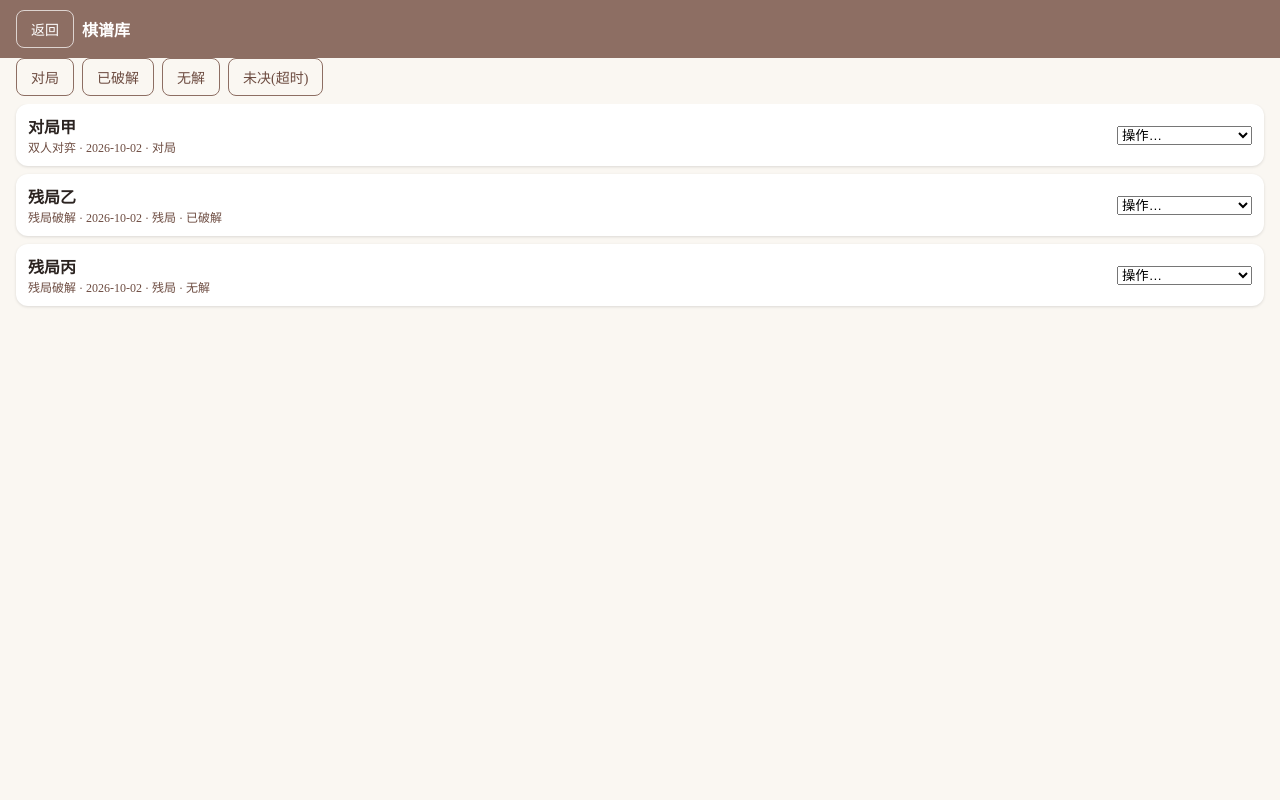
Test: 棋谱库列表（TC-LIB） › TC-LIB-006 删除确认后棋谱移除
Expected: the text "残局丙" is shown, [28,259,76,276]
Select "删除" in the dropdown named "棋谱操作 残局丙". click: (1184, 275)
box: [1117,266,1252,284]
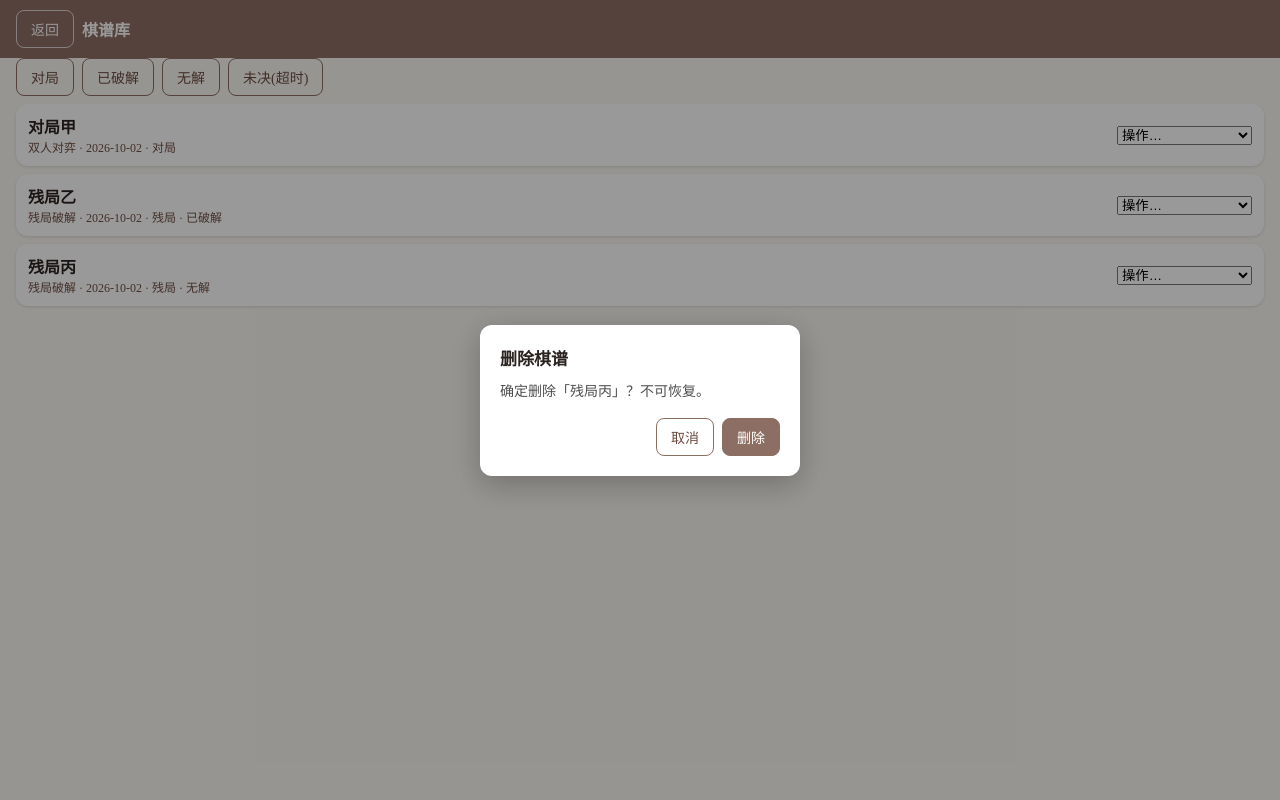
Expected: the element with test id "confirm-dialog" is shown
Click the button "删除". click: (751, 436)
box: [722,418,780,456]
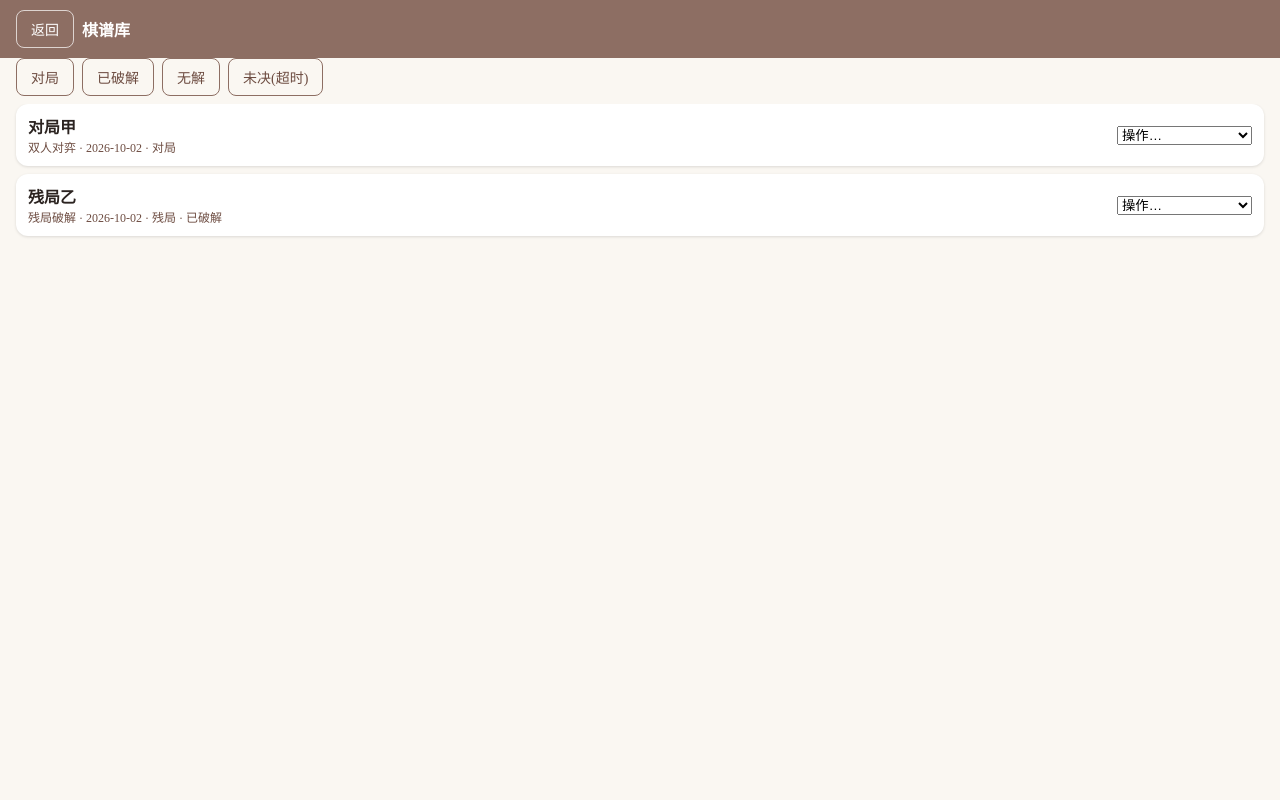
Expected: the text "残局丙" is gone
